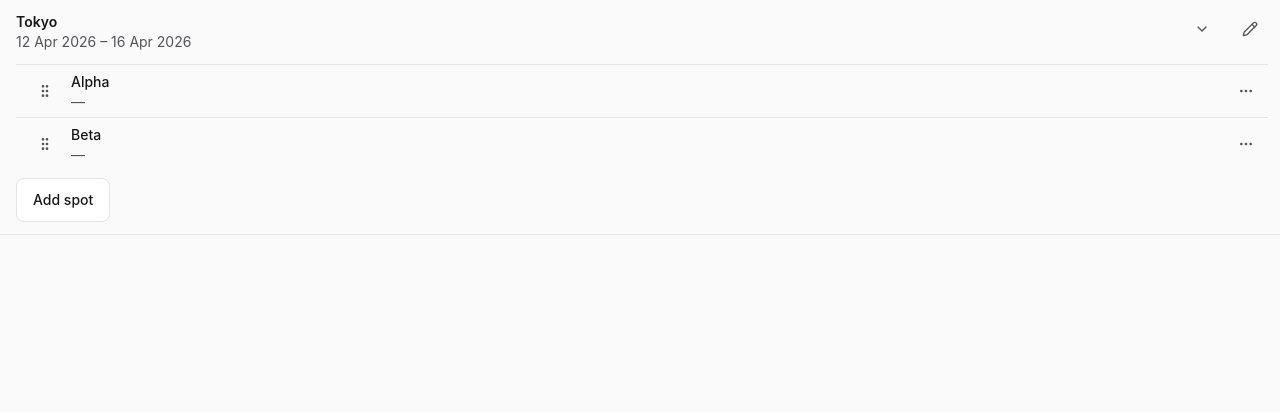
schedule reorder controls › offers to create a spot when the picker is empty
Step 1. Click the button "Add spot" → click(63, 200), box [16, 178, 110, 222]
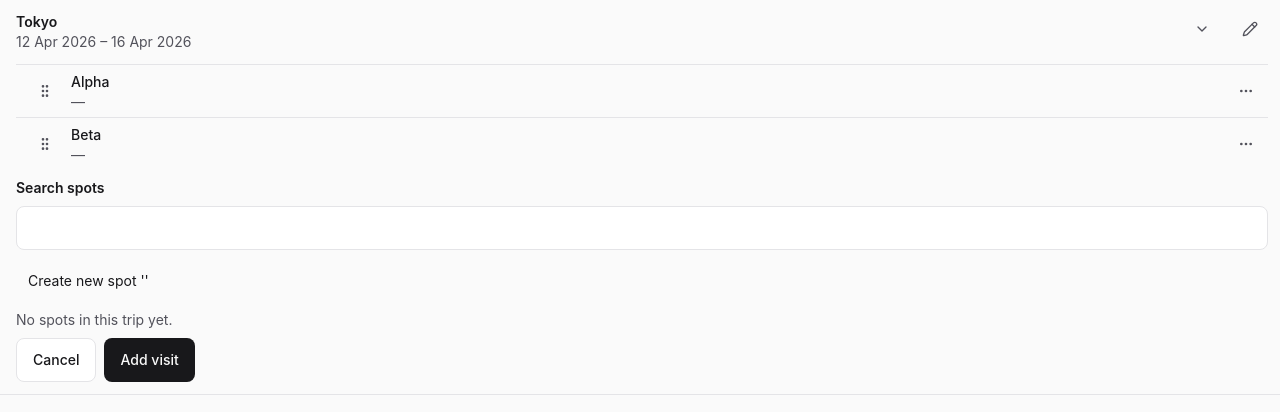
Expected: the option "Create new spot ''" is shown, [16, 258, 1268, 302]
